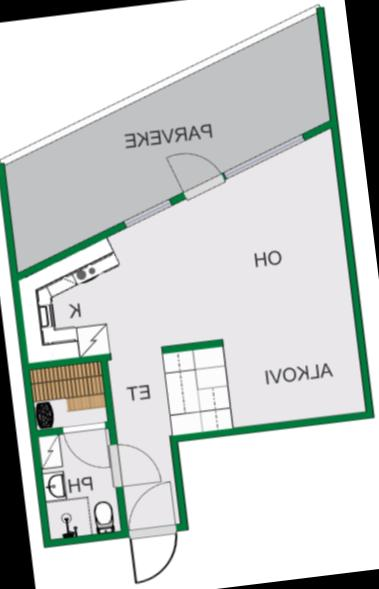door: (162, 142, 229, 202), (122, 522, 184, 586), (122, 478, 180, 539), (60, 419, 114, 473), (107, 436, 164, 484)
window: (220, 127, 310, 181), (117, 189, 176, 232)
